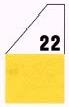Demarcacao hectometrica da via - estradas municipais: (3, 4, 64, 104)
